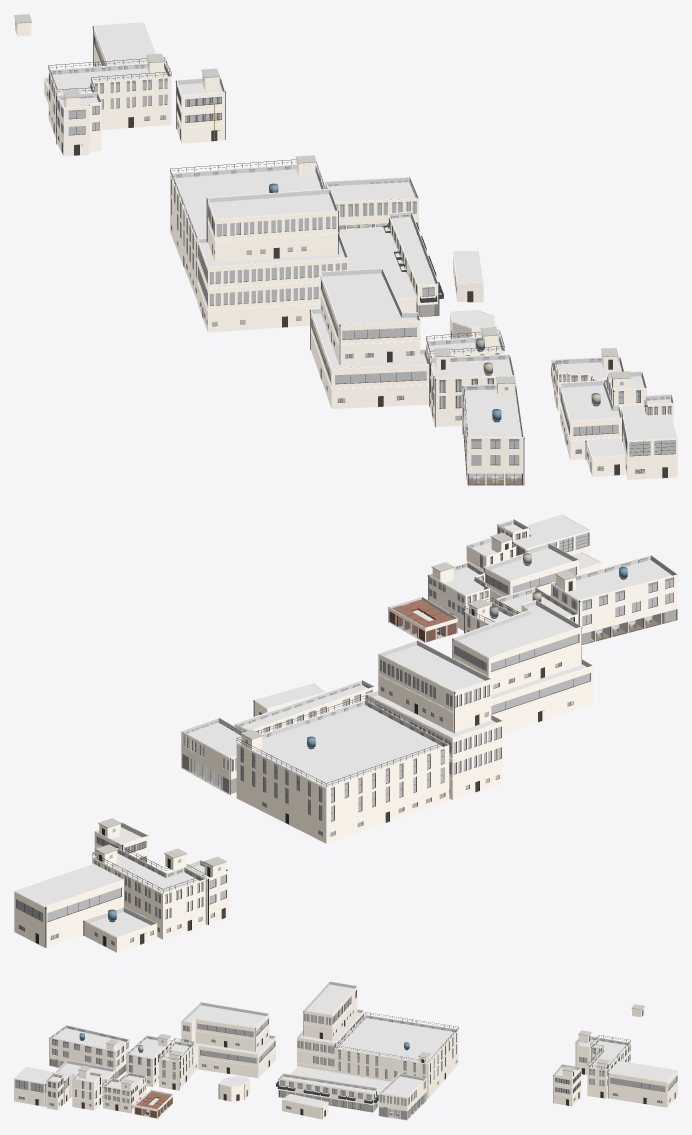
3 views of the same model, one above another, from view 1: azimuth 30°, elevation 25°; view 2: azimuth 150°, elevation 25°; view 3: azimuth 270°, elevation 25° (orthographic). The views are drawn at different scales.
Visible parts, largest first — view 1: 서울특별시 성동구 성수동2가 276-2.002, 서울특별시 성동구 성수동2가 275-36, 서울특별시 성동구 성수동2가 276-2, 서울특별시 성동구 성수동2가 277-147.001, 서울특별시 성동구 성수동2가 275-26, 서울특별시 성동구 성수동2가 276-8.002, 서울특별시 성동구 성수동2가 275-59.001, 서울특별시 성동구 성수동2가 275-59, 서울특별시 성동구 성수동2가 275-98.001, 서울특별시 성동구 성수동2가 276-8, 서울특별시 성동구 성수동2가 276-8.001, 서울특별시 성동구 성수동2가 277-69 (+8 smaller); view 2: 서울특별시 성동구 성수동2가 276-2, 서울특별시 성동구 성수동2가 276-2.002, 서울특별시 성동구 성수동2가 275-36, 서울특별시 성동구 성수동2가 275-26, 서울특별시 성동구 성수동2가 277-68, 서울특별시 성동구 성수동2가 277-147.001, 서울특별시 성동구 성수동2가 276-8.002, 서울특별시 성동구 성수동2가 275-59, 서울특별시 성동구 성수동2가 276-8, 서울특별시 성동구 성수동2가 275-65, 서울특별시 성동구 성수동2가 277-148, 서울특별시 성동구 성수동2가 275-51 (+7 smaller); view 3: 서울특별시 성동구 성수동2가 276-2, 서울특별시 성동구 성수동2가 275-36, 서울특별시 성동구 성수동2가 276-2.002, 서울특별시 성동구 성수동2가 275-26, 서울특별시 성동구 성수동2가 277-68, 서울특별시 성동구 성수동2가 276-8, 서울특별시 성동구 성수동2가 276-8.002, 서울특별시 성동구 성수동2가 277-147.001, 서울특별시 성동구 성수동2가 275-36.001, 서울특별시 성동구 성수동2가 275-59.001, 서울특별시 성동구 성수동2가 275-98.001, 서울특별시 성동구 성수동2가 275-65 (+9 smaller).
Boxes of the visible parts, left/top/right/bottom form: 서울특별시 성동구 성수동2가 276-2.002: left=197, top=188, right=348, bottom=332; 서울특별시 성동구 성수동2가 275-36: left=309, top=268, right=428, bottom=408; 서울특별시 성동구 성수동2가 276-2: left=169, top=159, right=339, bottom=301; 서울특별시 성동구 성수동2가 277-147.001: left=48, top=57, right=171, bottom=138; 서울특별시 성동구 성수동2가 275-26: left=462, top=383, right=524, bottom=485; 서울특별시 성동구 성수동2가 276-8.002: left=325, top=177, right=419, bottom=229; 서울특별시 성동구 성수동2가 275-59.001: left=621, top=404, right=677, bottom=479; 서울특별시 성동구 성수동2가 275-59: left=560, top=380, right=622, bottom=460; 서울특별시 성동구 성수동2가 275-98.001: left=428, top=354, right=514, bottom=427; 서울특별시 성동구 성수동2가 276-8: left=383, top=211, right=443, bottom=317; 서울특별시 성동구 성수동2가 276-8.001: left=338, top=227, right=416, bottom=312; 서울특별시 성동구 성수동2가 277-69: left=175, top=76, right=225, bottom=143; 서울특별시 성동구 성수동2가 276-2: left=236, top=695, right=449, bottom=843; 서울특별시 성동구 성수동2가 276-2.002: left=366, top=640, right=502, bottom=799; 서울특별시 성동구 성수동2가 275-36: left=452, top=600, right=593, bottom=733; 서울특별시 성동구 성수동2가 275-26: left=550, top=554, right=677, bottom=645; 서울특별시 성동구 성수동2가 277-68: left=14, top=863, right=123, bottom=947; 서울특별시 성동구 성수동2가 277-147.001: left=92, top=843, right=205, bottom=939; 서울특별시 성동구 성수동2가 276-8.002: left=181, top=717, right=243, bottom=794; 서울특별시 성동구 성수동2가 275-59: left=483, top=543, right=579, bottom=603; 서울특별시 성동구 성수동2가 276-8: left=234, top=680, right=374, bottom=733; 서울특별시 성동구 성수동2가 275-65: left=427, top=562, right=490, bottom=630; 서울특별시 성동구 성수동2가 277-148: left=83, top=907, right=157, bottom=952; 서울특별시 성동구 성수동2가 275-51: left=387, top=596, right=457, bottom=643; 서울특별시 성동구 성수동2가 276-2: left=334, top=1012, right=458, bottom=1098; 서울특별시 성동구 성수동2가 275-36: left=179, top=1002, right=275, bottom=1078; 서울특별시 성동구 성수동2가 276-2.002: left=296, top=981, right=363, bottom=1072; 서울특별시 성동구 성수동2가 275-26: left=49, top=1025, right=129, bottom=1078; 서울특별시 성동구 성수동2가 277-68: left=608, top=1061, right=677, bottom=1107; 서울특별시 성동구 성수동2가 276-8: left=276, top=1073, right=378, bottom=1112; 서울특별시 성동구 성수동2가 276-8.002: left=378, top=1073, right=426, bottom=1120; 서울특별시 성동구 성수동2가 277-147.001: left=587, top=1035, right=630, bottom=1098; 서울특별시 성동구 성수동2가 275-36.001: left=159, top=1038, right=193, bottom=1090; 서울특별시 성동구 성수동2가 275-59.001: left=14, top=1066, right=69, bottom=1106; 서울특별시 성동구 성수동2가 275-98.001: left=126, top=1035, right=172, bottom=1086; 서울특별시 성동구 성수동2가 275-65: left=103, top=1072, right=146, bottom=1113.
Bounding box in the file's own units: 57.92 × 22.35 × 209.
